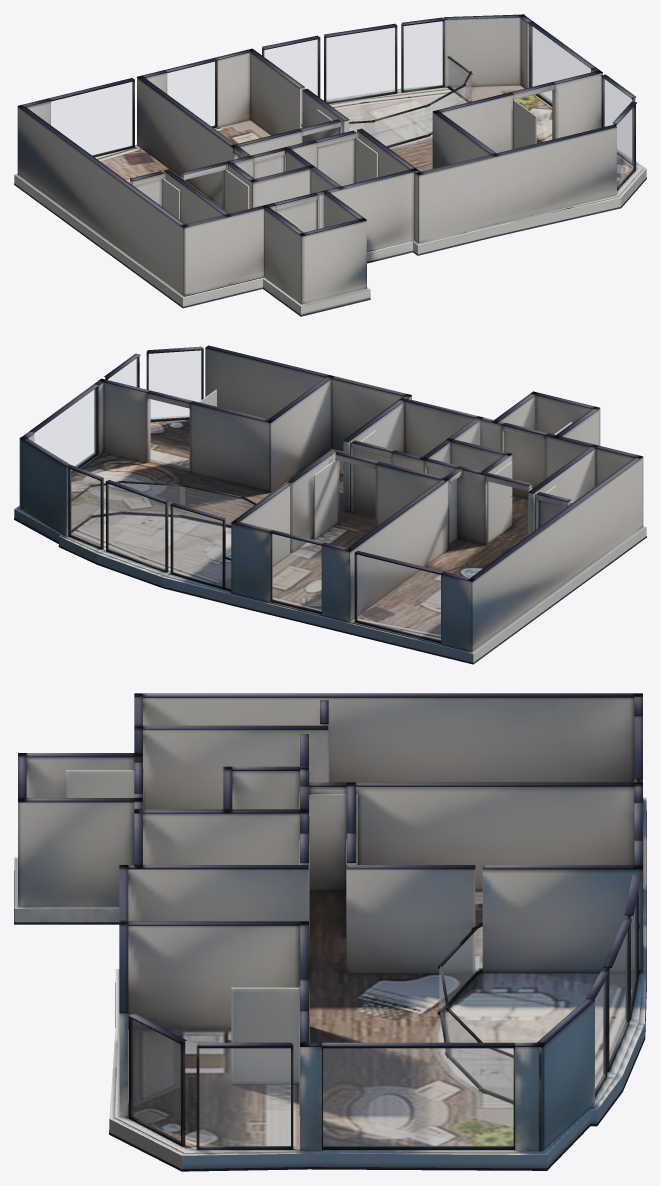
3 renders of one model, top to bottom at view 1: azimuth 30°, elevation 25°; view 2: azimuth 150°, elevation 25°; view 3: azimuth 270°, elevation 25°, orthographic. The views are drawn at different scales.
Parts seen in each view (by area): view 1: plan, glass6_m, glass0_m, glass7_m, glass1_m, glass3_m, glass5_m, railg5_m, glass2_m, glass4_m, railg4_m, railg1_m; view 2: plan, glass0_m, glass6_m, glass1_m, glass5_m, glass4_m, glass3_m, glass7_m, railg5_m, railg4_m, railg3_m, railg1_m (+1 smaller); view 3: plan, glass3_m, glass2_m, glass4_m, glass6_m, railg6_m, railg3_m, railg4_m, glass7_m.
Part boxes in pixels (box(x1,y1,x2,y2)): plan: box(14, 14, 646, 316); glass6_m: box(326, 27, 395, 101); glass0_m: box(51, 82, 132, 155); glass7_m: box(404, 21, 442, 90); glass1_m: box(167, 62, 215, 126); glass3_m: box(531, 25, 590, 103); glass5_m: box(264, 39, 317, 95); railg5_m: box(370, 106, 429, 145); glass2_m: box(603, 79, 631, 162); glass4_m: box(616, 107, 633, 187); railg4_m: box(426, 86, 465, 134); railg1_m: box(449, 59, 471, 101); plan: box(14, 345, 646, 664); glass0_m: box(357, 555, 440, 640); glass6_m: box(108, 484, 164, 569); glass1_m: box(272, 534, 321, 611); glass5_m: box(173, 507, 222, 586); glass4_m: box(149, 350, 201, 419); glass3_m: box(34, 388, 95, 470); glass7_m: box(70, 469, 100, 546); railg5_m: box(180, 486, 245, 524); railg4_m: box(121, 483, 184, 514); railg3_m: box(92, 483, 123, 514); railg1_m: box(72, 488, 90, 529); plan: box(14, 693, 646, 1171); glass3_m: box(323, 1048, 513, 1146); glass2_m: box(199, 1048, 290, 1146); glass4_m: box(132, 1019, 180, 1141); glass6_m: box(609, 932, 627, 1062); railg6_m: box(439, 930, 477, 1011); railg3_m: box(480, 1049, 512, 1099); railg4_m: box(446, 1010, 483, 1088); glass7_m: box(595, 982, 604, 1091).
Bounding box in the file's own units: 16.63 × 2.62 × 12.4.
Materials: 2 (1 with a texture image).
